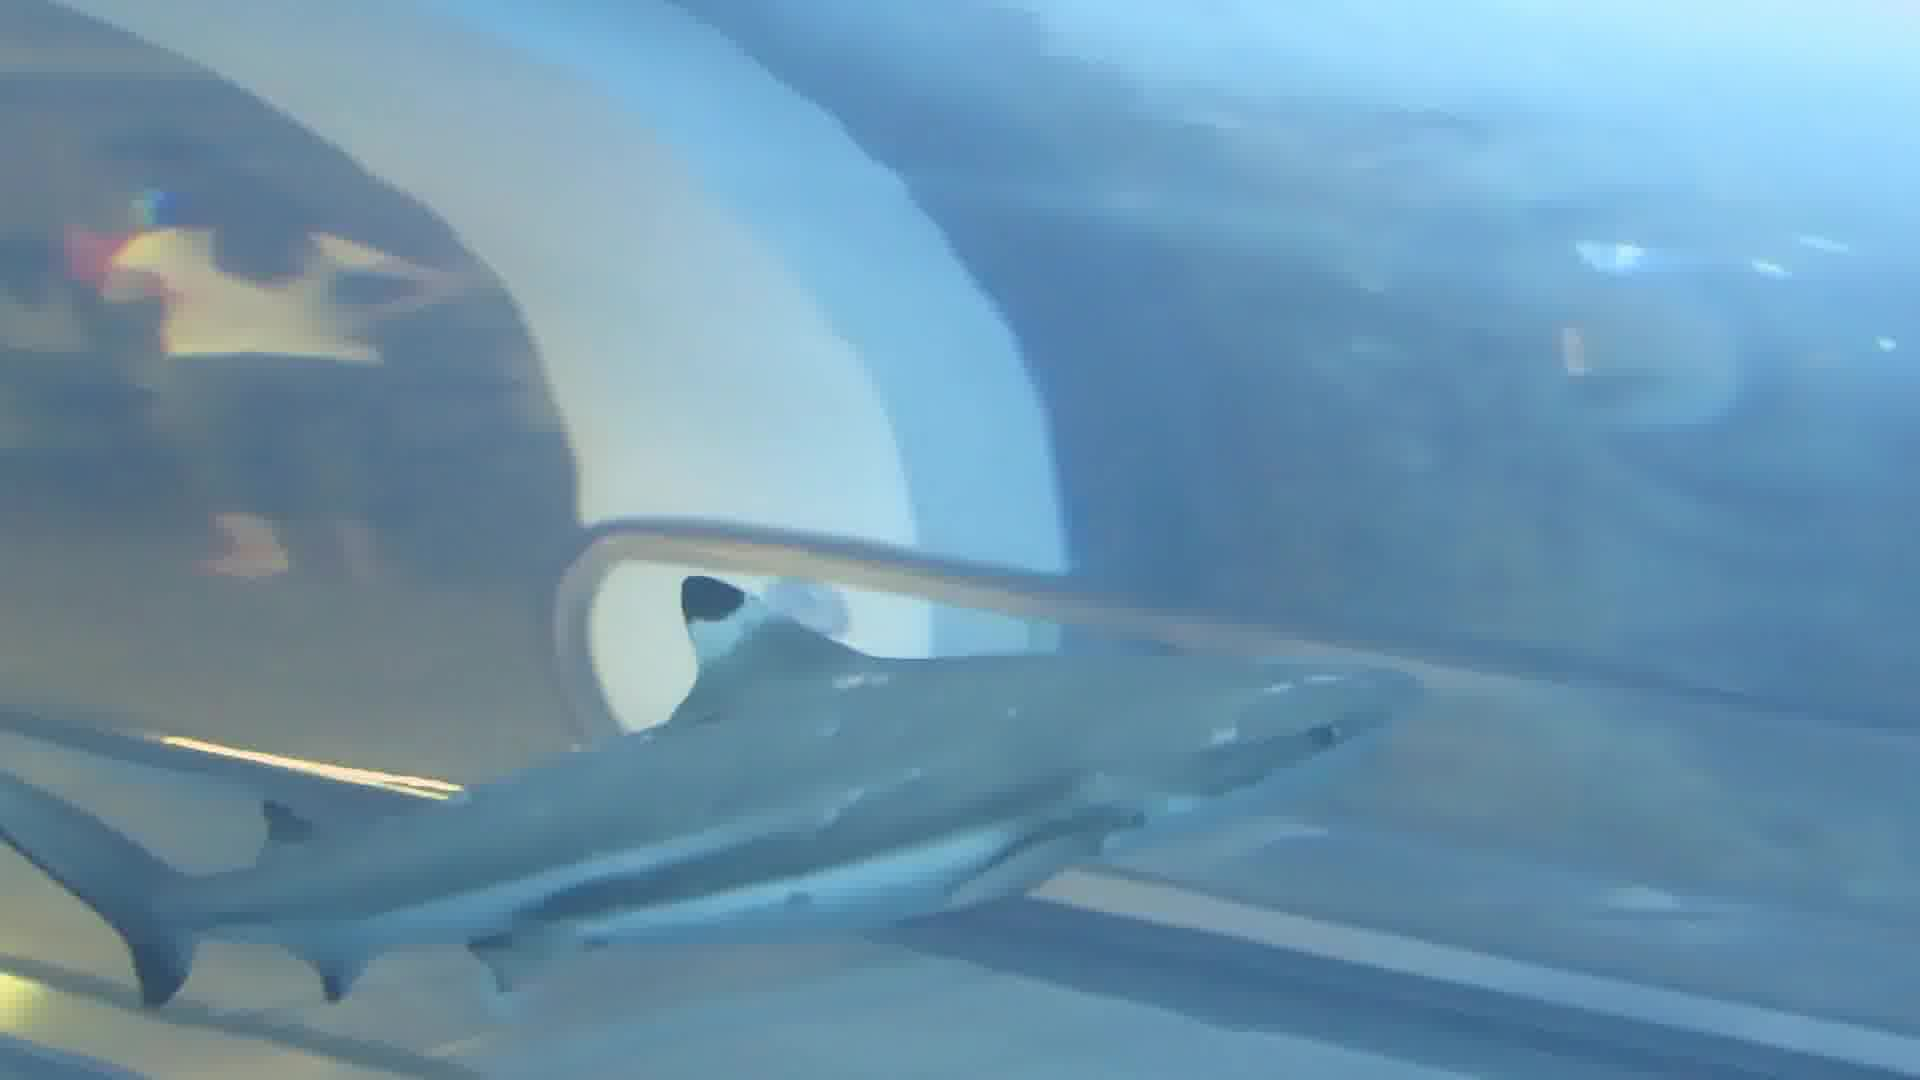Carcharhinus melanopterus: (1, 574, 1451, 1023)
